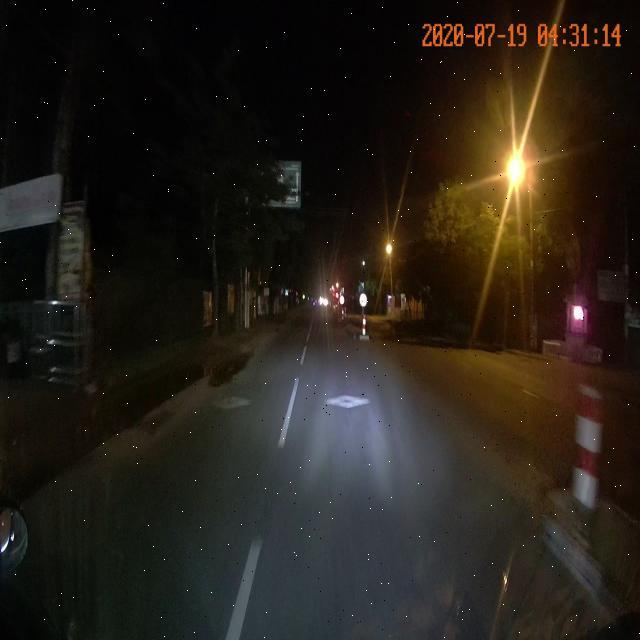diamond: (277, 372, 470, 429)
